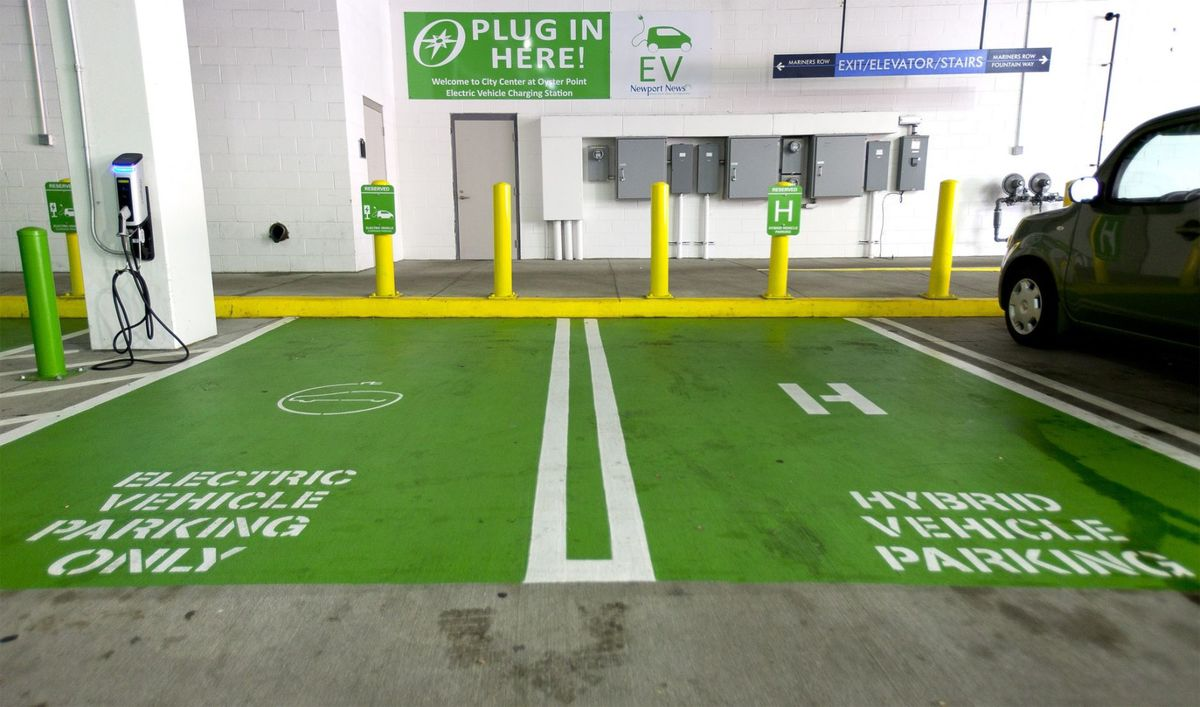empyt_space: (542, 303, 1200, 591), (1, 304, 594, 617)
